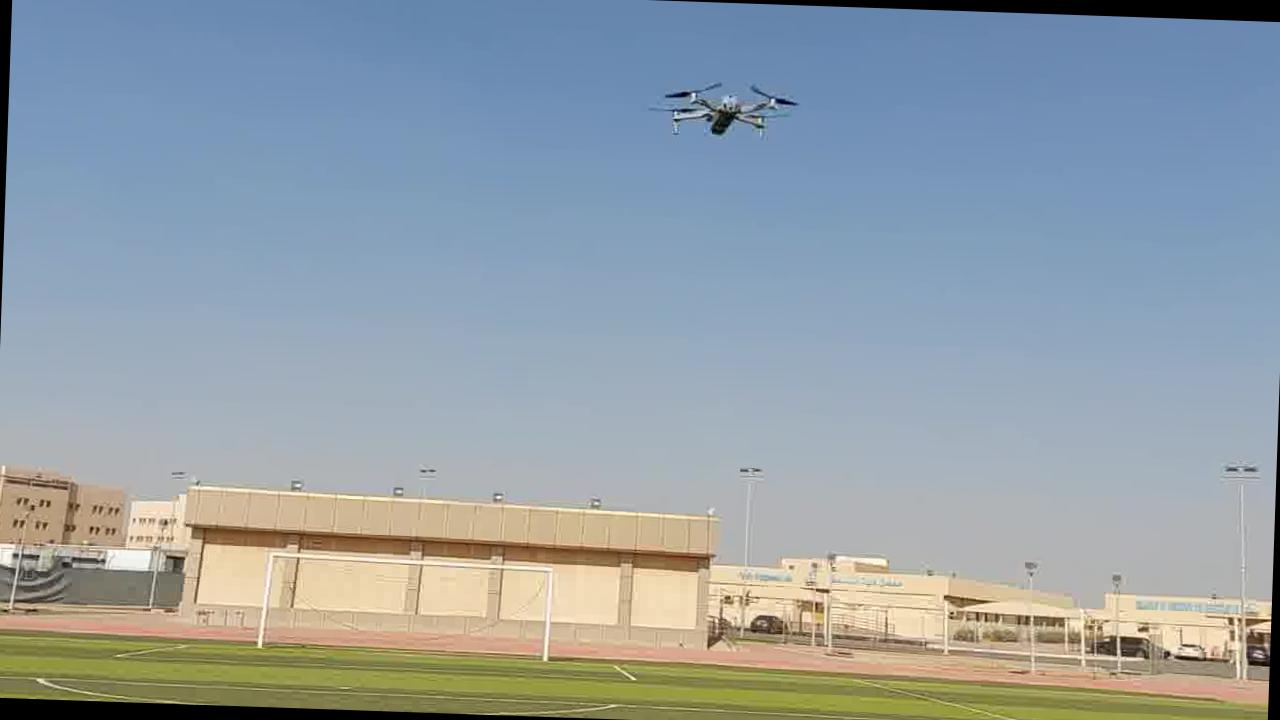drone: (652, 66, 798, 150)
